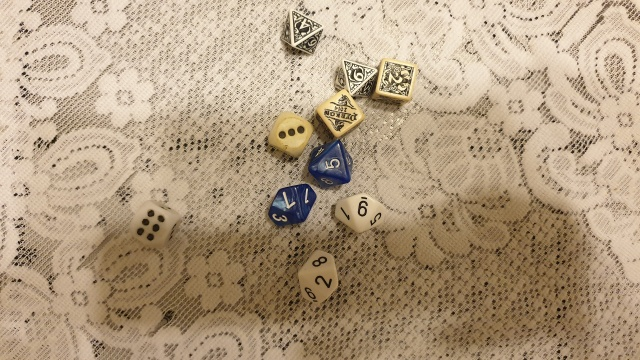d10-2: (294, 245, 340, 309)
d10-5: (314, 143, 353, 186)
d10-7: (267, 182, 318, 230)
d10-9: (330, 192, 389, 236)
d6-3: (266, 109, 313, 158)
d6-6: (126, 200, 181, 251)
d6p-1: (315, 89, 365, 138)
d6p-2: (371, 55, 420, 105)
d8p-4: (277, 6, 324, 57)
d8p-6: (332, 53, 377, 102)
